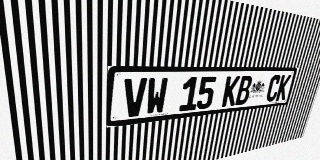1: (179, 77, 200, 112)
5: (196, 76, 217, 110)
B: (235, 76, 253, 105)
C: (265, 75, 282, 102)
K: (221, 76, 240, 107), (275, 75, 291, 101)
V: (123, 78, 147, 118)
W: (145, 77, 168, 115)
